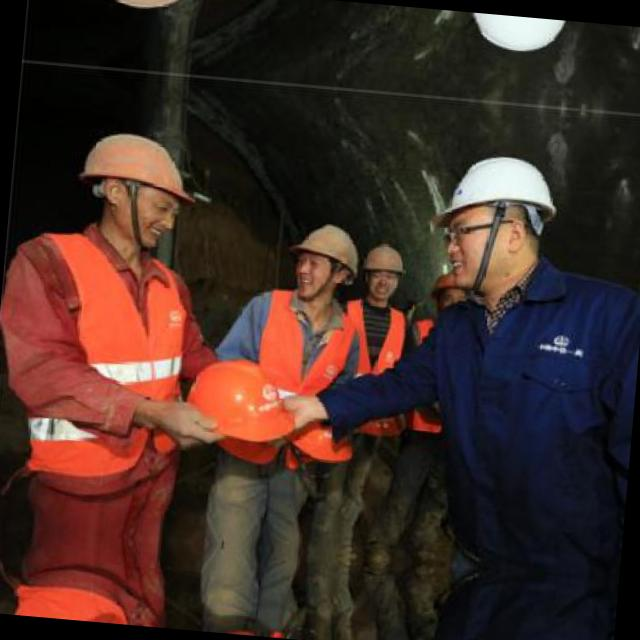helmet: (428, 144, 565, 302), (72, 125, 200, 248), (286, 212, 364, 308), (448, 10, 578, 61), (354, 233, 409, 309), (422, 266, 472, 319), (91, 0, 213, 15)
